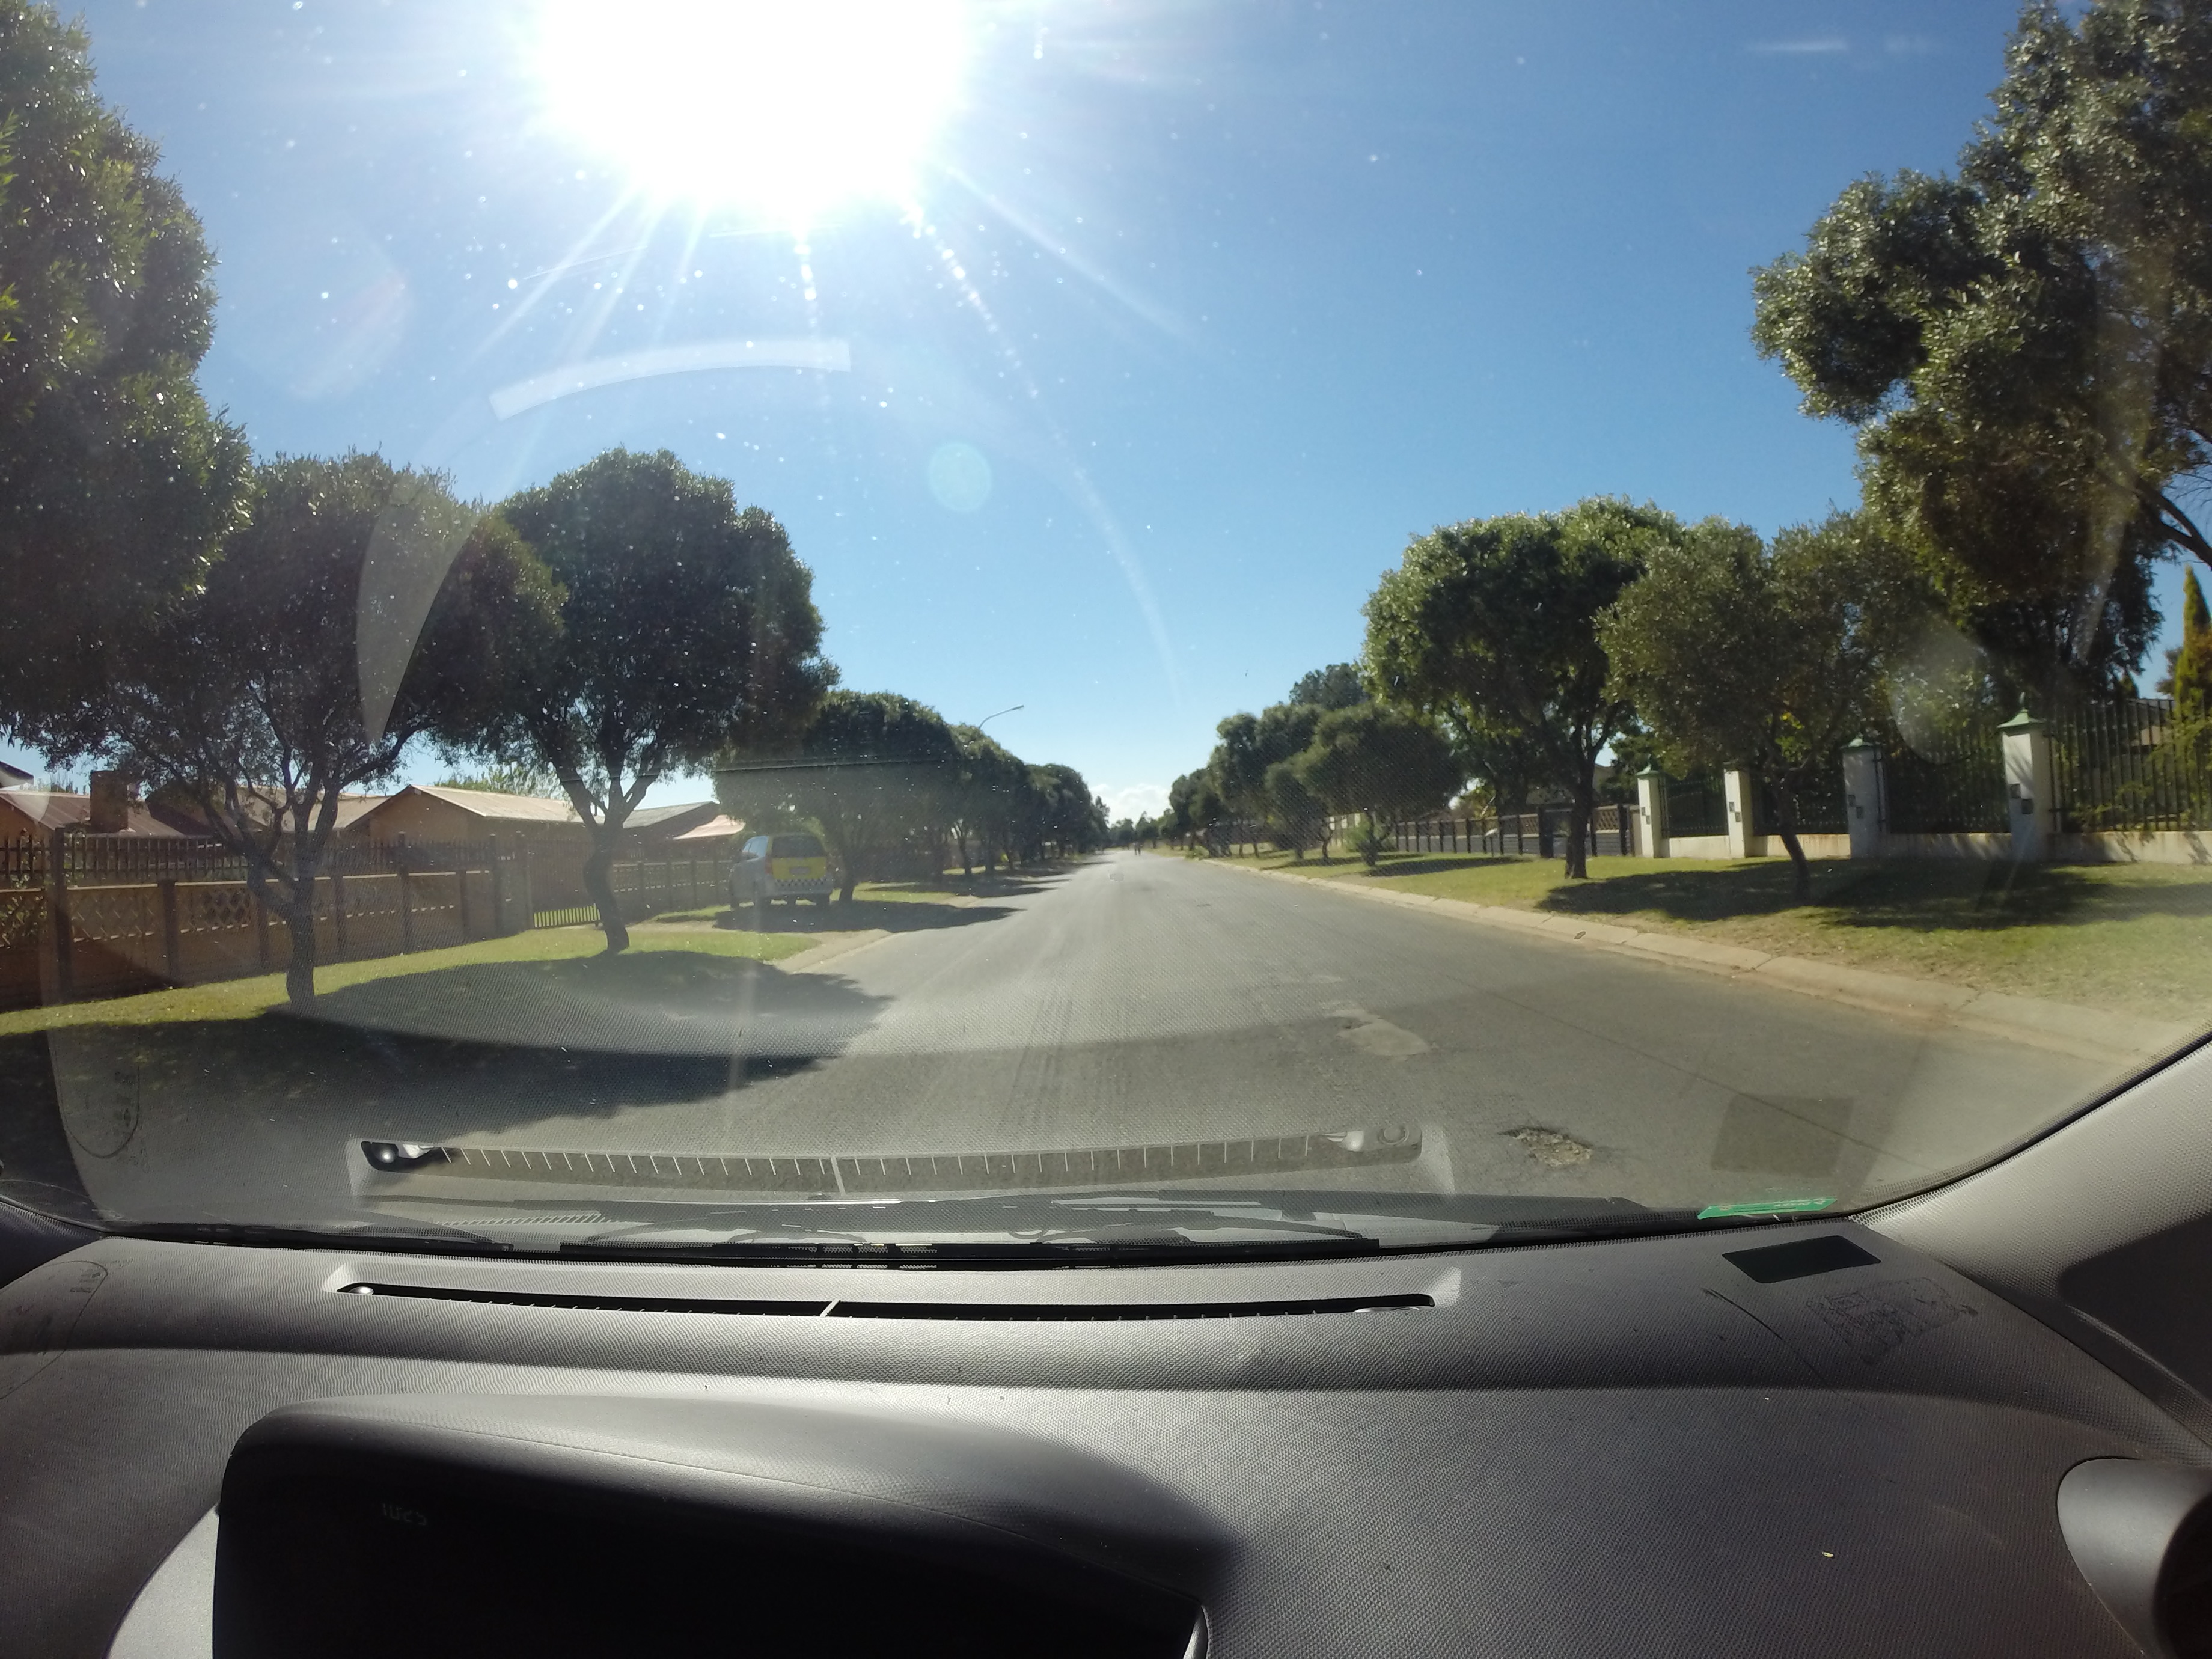pothole: (1468, 1082, 1606, 1201)
